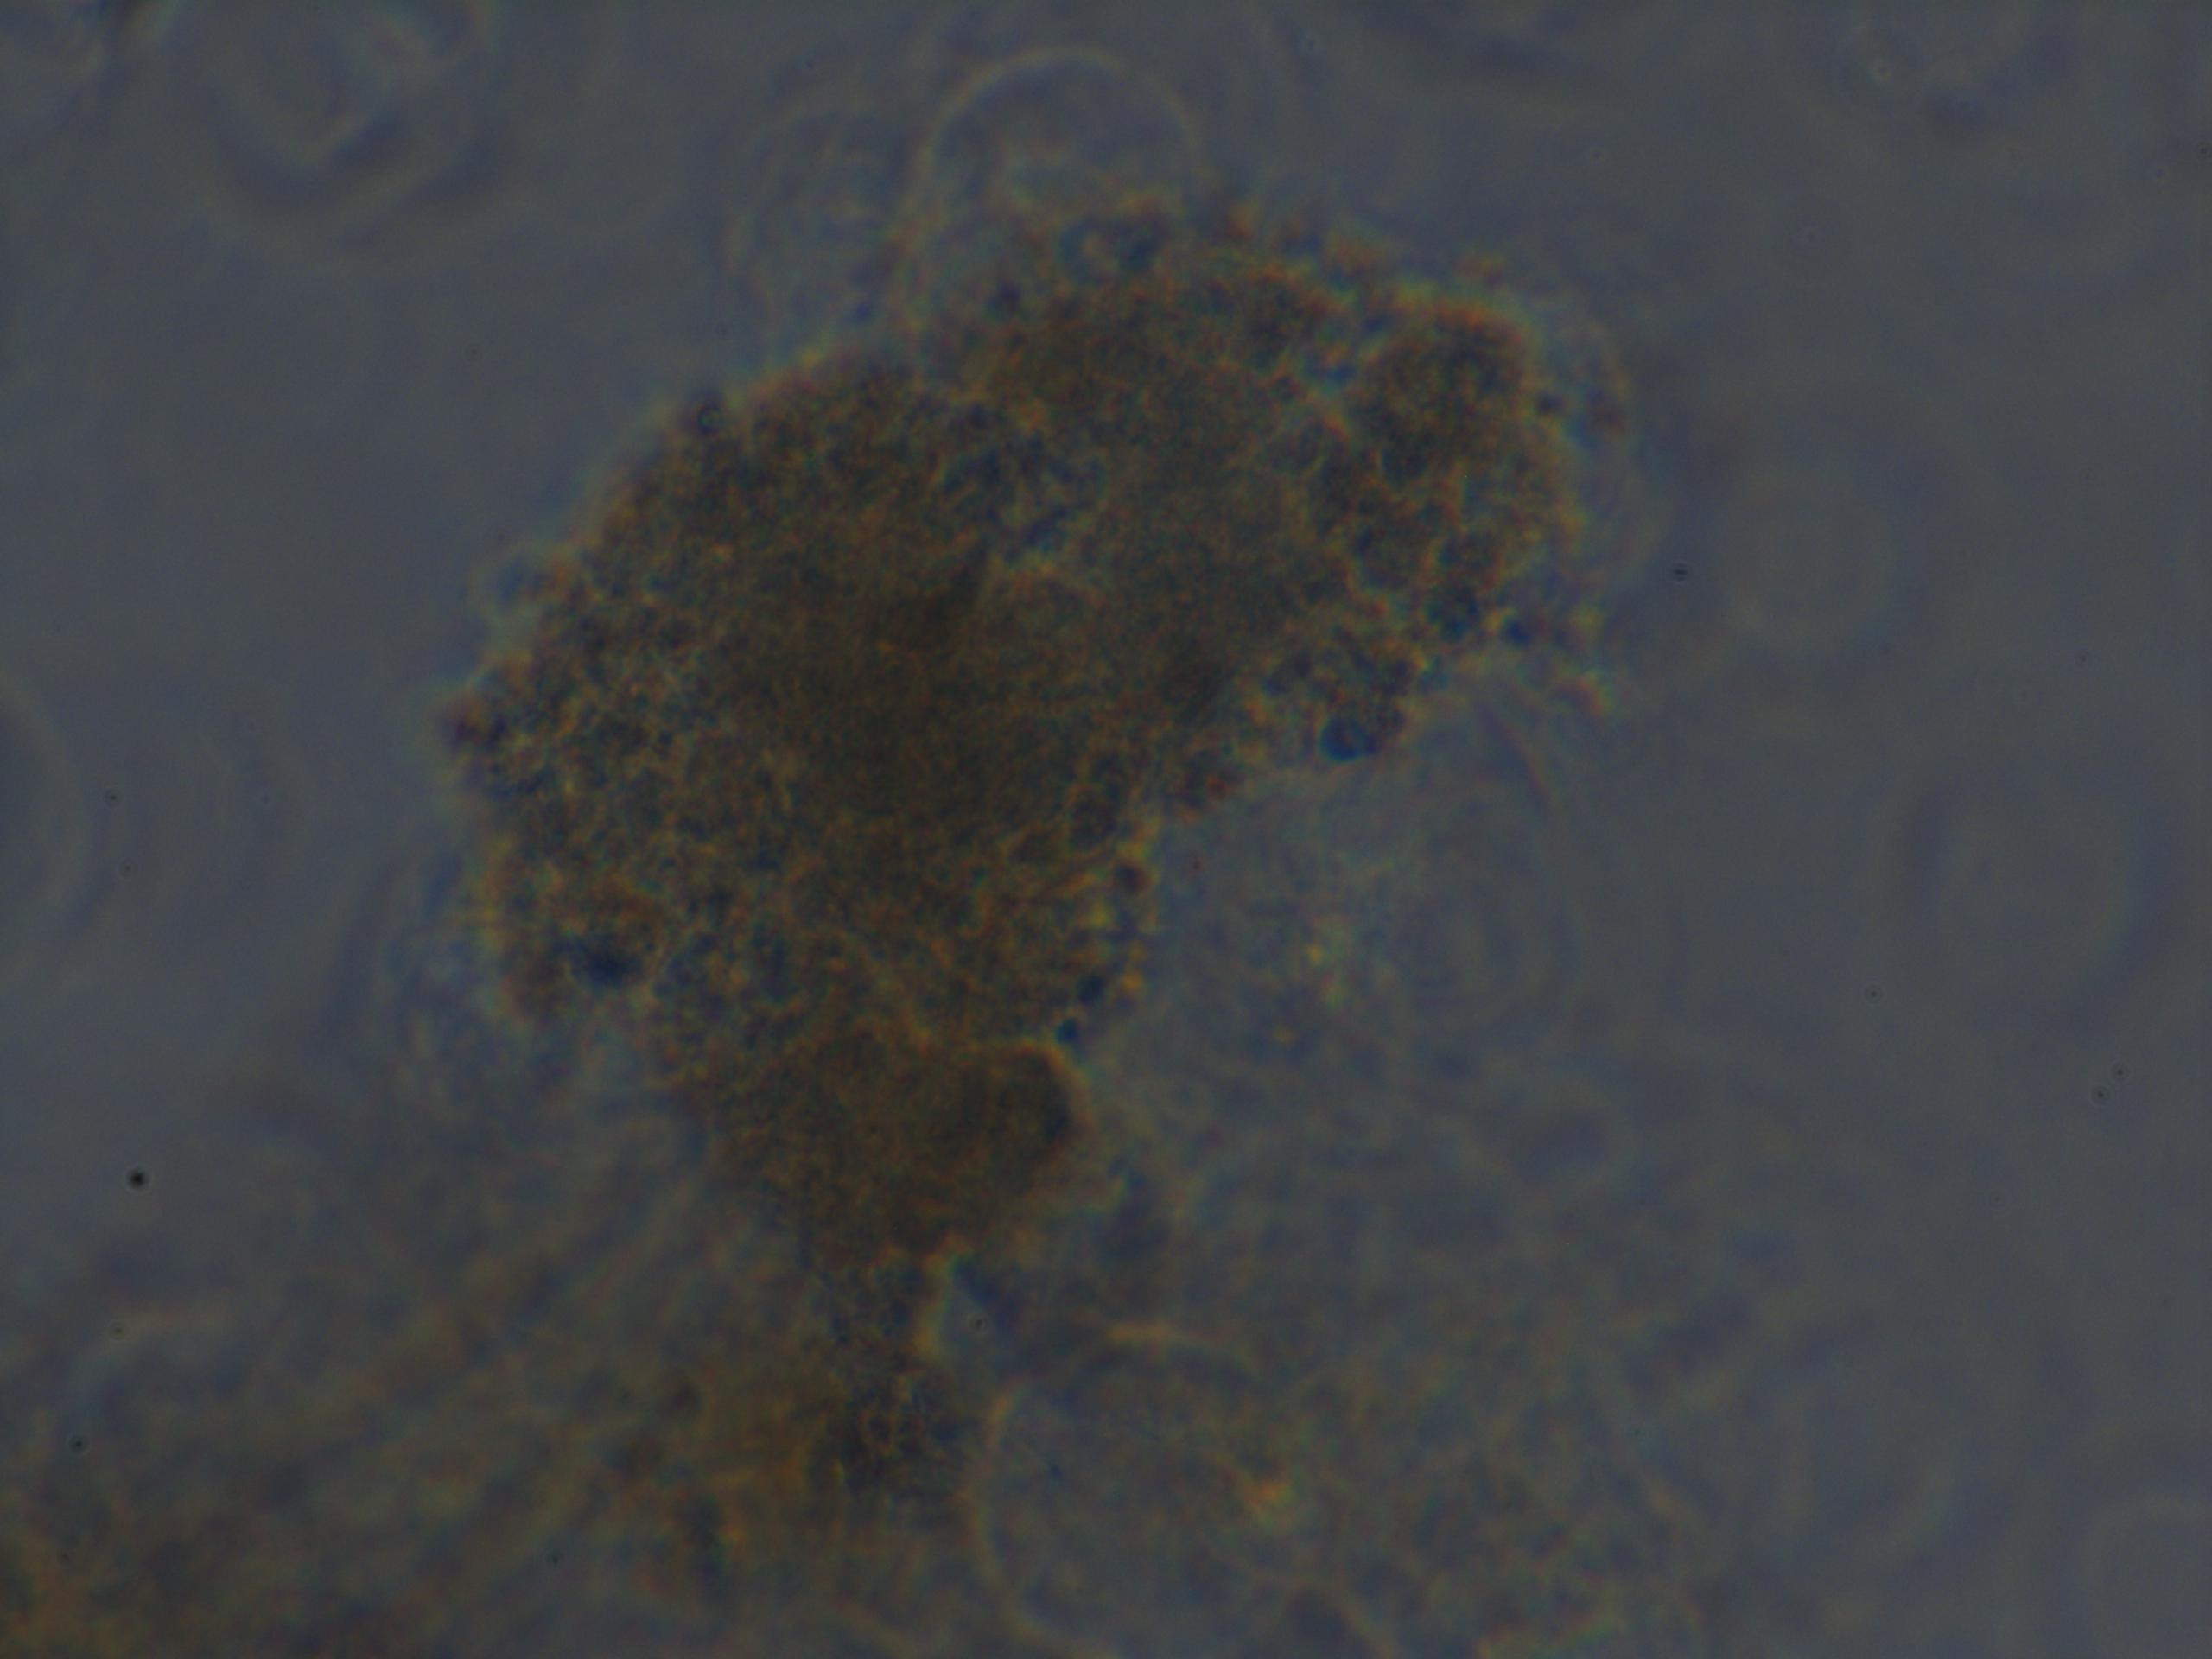spherical_floc: (455, 200, 1581, 1101)
